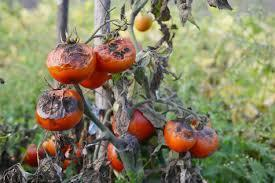tomato early blight: (46, 34, 137, 91), (37, 85, 86, 132), (164, 117, 217, 156)
